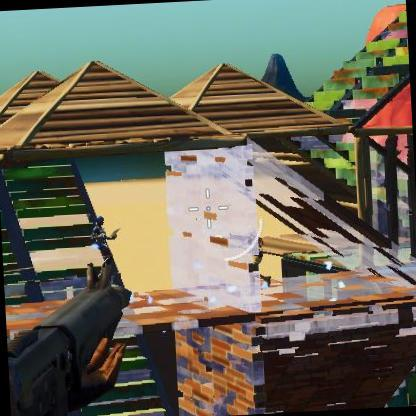person: (92, 215, 116, 273), (244, 225, 262, 281)
